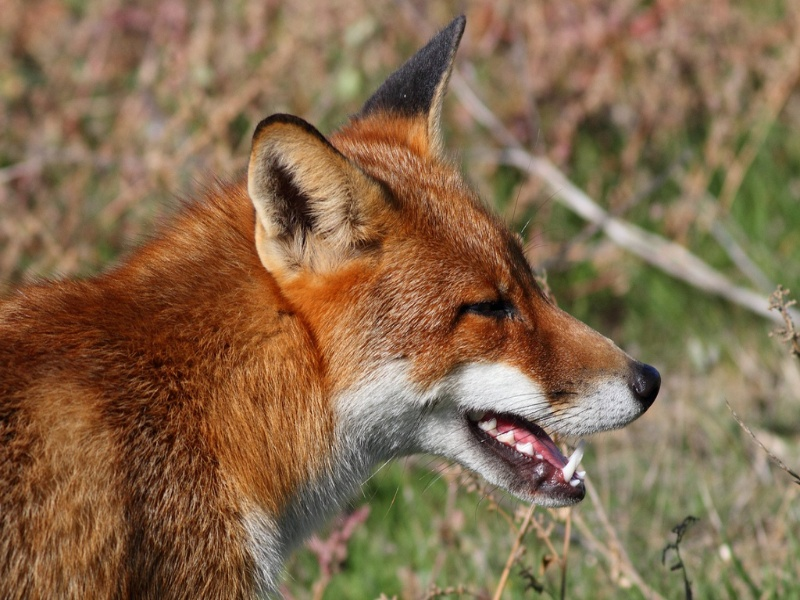fox: (5, 9, 661, 596)
